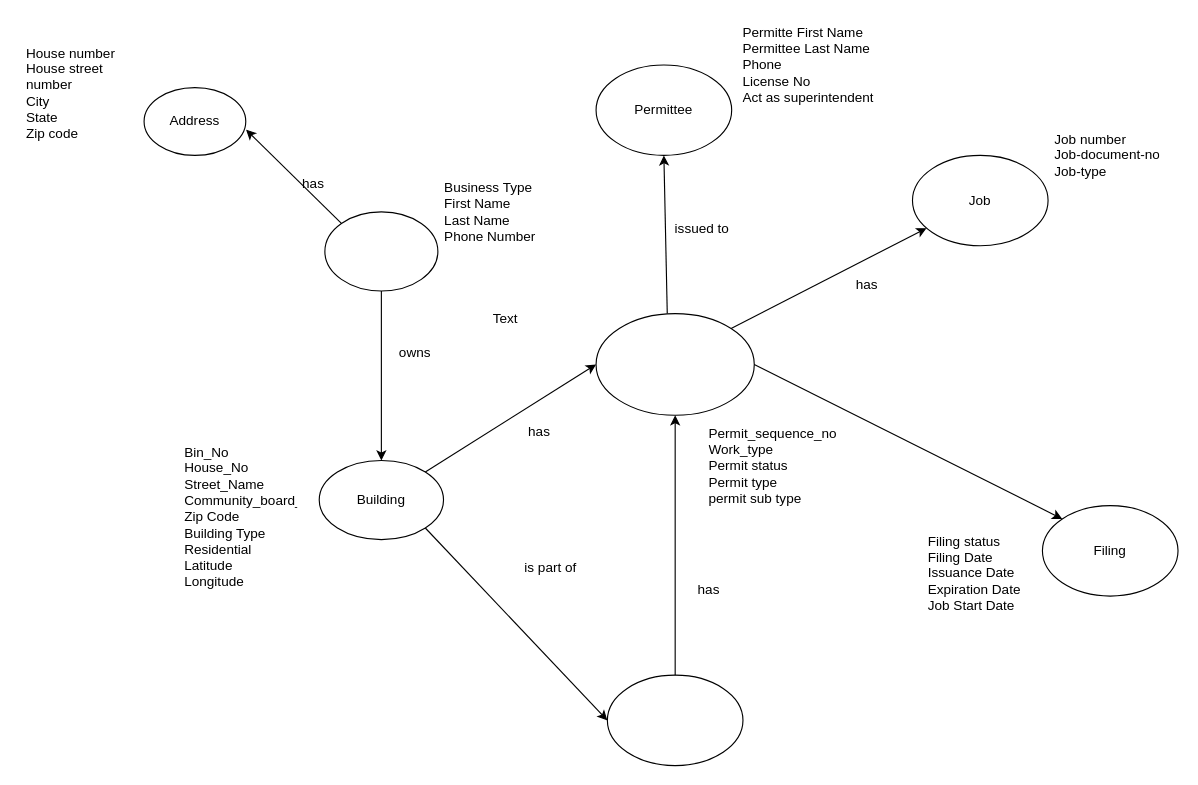
The diagram is 1198 pixels wide and 785 high, and some of its shapes have lost their labels. The centre of each missing label's shape, as x and y in pixels:
Borough: the point at 674,720
Owner: the point at 381,251
Permits: the point at 674,363
